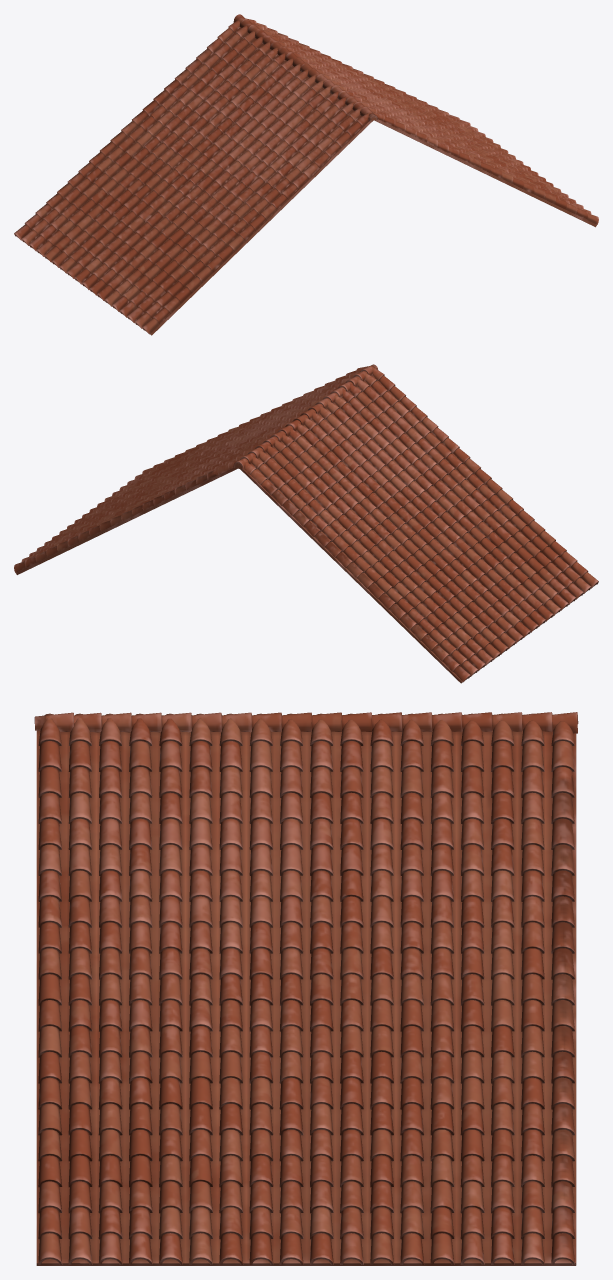
File: SM_Roof_A_Double.fbx
3 renders of one model, top to bottom at view 1: azimuth 30°, elevation 25°; view 2: azimuth 150°, elevation 25°; view 3: azimuth 270°, elevation 25°, orthographic. The views are drawn at different scales.
Parts seen in each view (by area): view 1: SM_Roof_A_Double_LOD0; view 2: SM_Roof_A_Double_LOD0; view 3: SM_Roof_A_Double_LOD0.
Part boxes in pixels (box(x1,y1,x2,y2)): SM_Roof_A_Double_LOD0: box(14, 14, 598, 335); SM_Roof_A_Double_LOD0: box(14, 364, 598, 683); SM_Roof_A_Double_LOD0: box(34, 712, 578, 1265).
Bounding box in the file's own units: 1401 × 726 × 495.
Materials: 1 (1 with a texture image).
